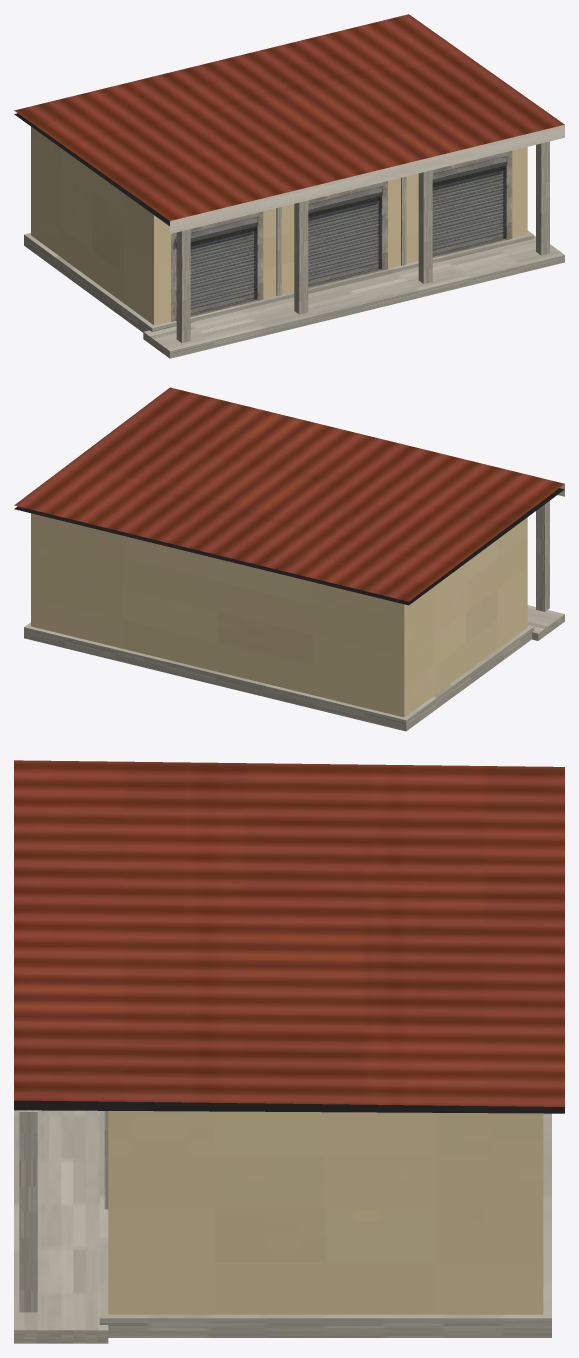
The model's file is shoprow-cream-far.glb.
3 renders of one model, top to bottom at view 1: azimuth 30°, elevation 25°; view 2: azimuth 150°, elevation 25°; view 3: azimuth 270°, elevation 25°, orthographic. The views are drawn at different scales.
Visible parts, largest first — view 1: shoprow-cream-far; view 2: shoprow-cream-far; view 3: shoprow-cream-far.
Part boxes in pixels (x1,y1,x2,y2): shoprow-cream-far: [14, 14, 564, 358]; shoprow-cream-far: [14, 387, 564, 731]; shoprow-cream-far: [14, 760, 564, 1343].
Size of the model in its own units: 11.1 by 3.7 by 7.6.
Materials: 1 (1 with a texture image).
